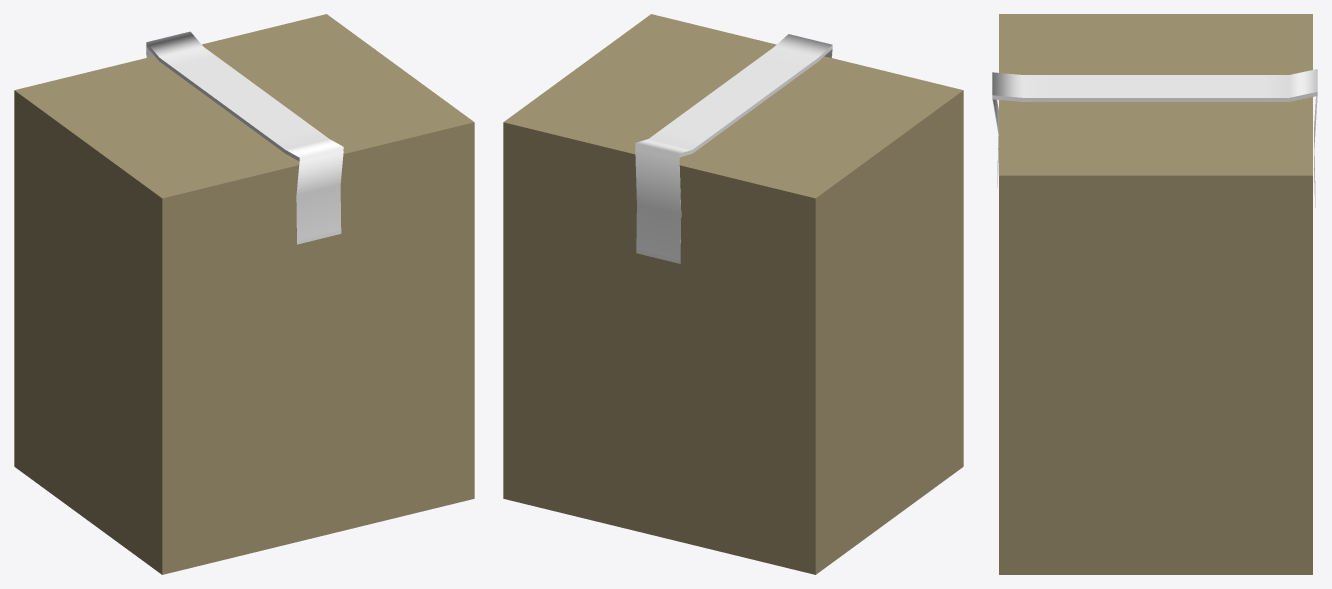
The model's file is PS_CardboardBoxWTape3_14_DF.fbx.
3 views of the same model, side by side, from view 1: azimuth 30°, elevation 25°; view 2: azimuth 150°, elevation 25°; view 3: azimuth 270°, elevation 25° (orthographic). The views are drawn at different scales.
Visible parts, largest first — view 1: CarboardBoxWTape3, Tape3; view 2: CarboardBoxWTape3, Tape3; view 3: CarboardBoxWTape3, Tape3.
Part boxes in pixels (x1,y1,x2,y2): CarboardBoxWTape3: (14, 14, 474, 574); Tape3: (146, 31, 343, 244); CarboardBoxWTape3: (503, 14, 963, 574); Tape3: (635, 34, 832, 263); CarboardBoxWTape3: (999, 14, 1312, 574); Tape3: (992, 69, 1317, 207).
Size of the model in its own units: 0.1833 by 0.2187 by 0.1558.
